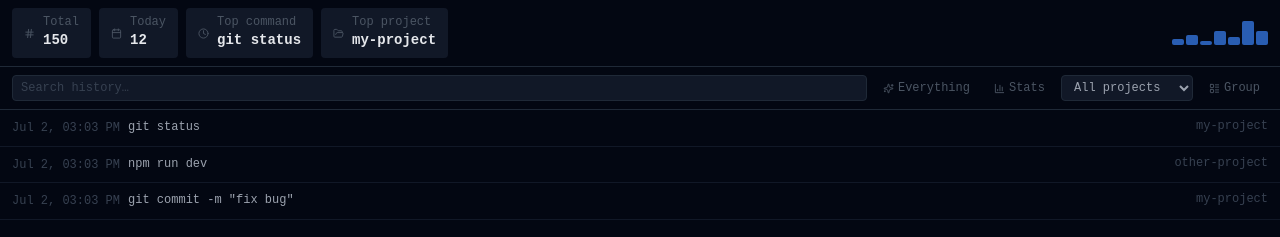
it: HistoryTab — usage stats mode › toggles into the usage stats mode inside the History tab
This screenshot has width=1280, height=237.
Click the button with aria-label "usage stats".
click(1020, 88)  # box [986,76,1053,100]
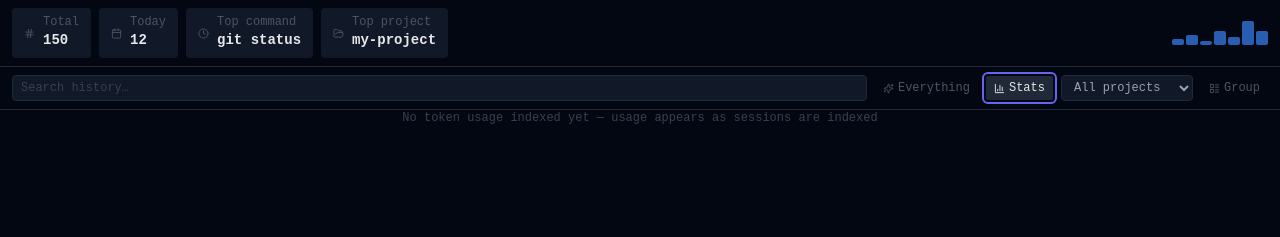
expect the text "No token usage indexed yet" is shown: met, box [402,111,878,125]
expect the text "npm run dev" is gone: met
